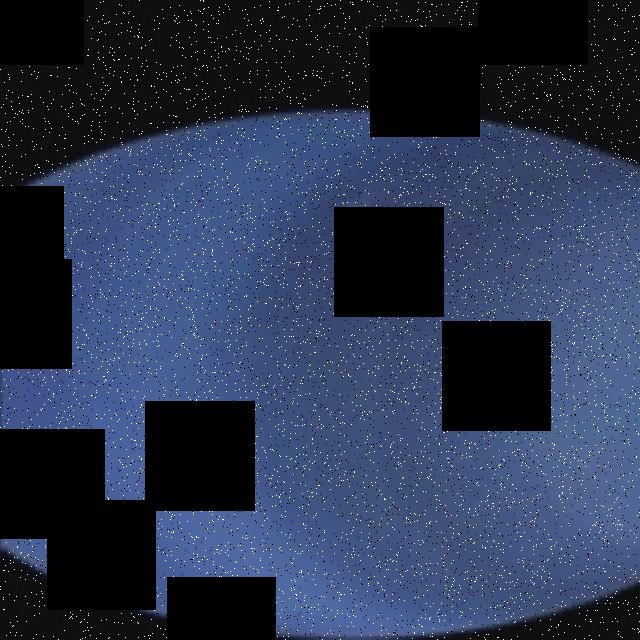Neptune: (0, 110, 640, 640)
